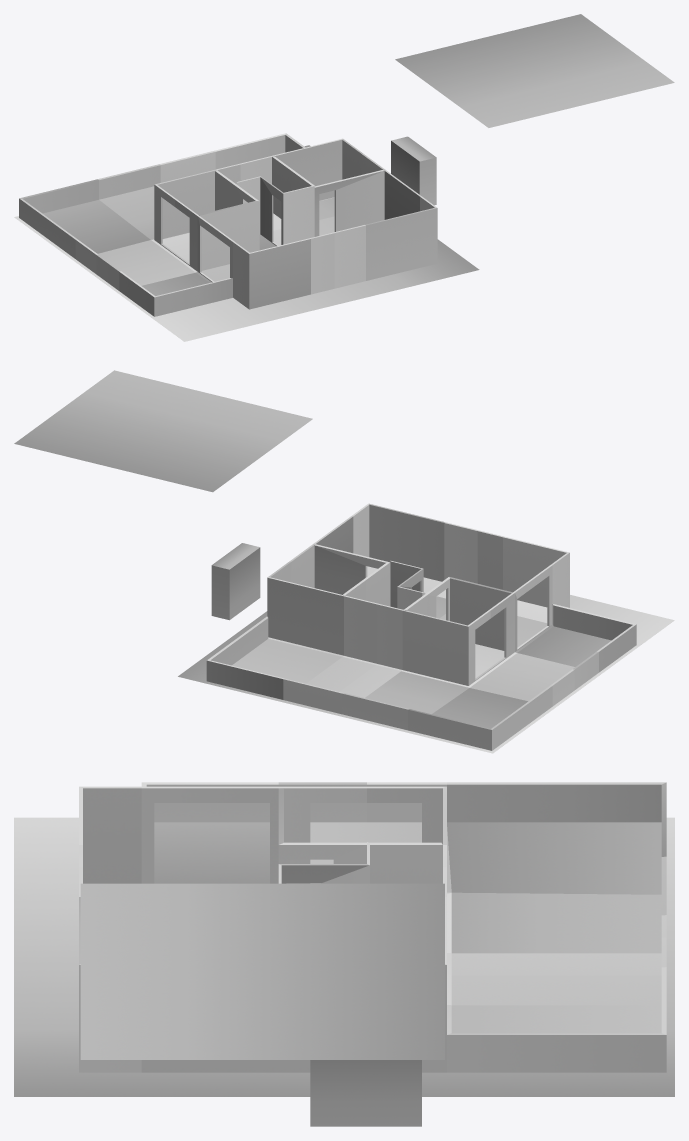
3 views of the same model, one above another, from view 1: azimuth 30°, elevation 25°; view 2: azimuth 150°, elevation 25°; view 3: azimuth 270°, elevation 25° (orthographic). The views are drawn at different scales.
Parts seen in each view (by area): view 1: Plane.001, Plane, Cube_Cube.001; view 2: Plane.001, Plane, Cube_Cube.001; view 3: Plane.001, Plane, Cube_Cube.001.
Part boxes in pixels (left/top/right/bottom): Plane.001: left=19, top=14, right=674, bottom=316; Plane: left=14, top=145, right=479, bottom=341; Cube_Cube.001: left=391, top=136, right=436, bottom=205; Plane.001: left=14, top=370, right=636, bottom=750; Plane: left=178, top=595, right=674, bottom=753; Cube_Cube.001: left=211, top=543, right=260, bottom=620; Plane.001: left=79, top=782, right=666, bottom=1072; Plane: left=14, top=817, right=674, bottom=1096; Cube_Cube.001: left=310, top=1060, right=421, bottom=1126.
Size of the model in its own units: 27.5 by 6.35 by 15.99.
4 materials, 4 textured.
